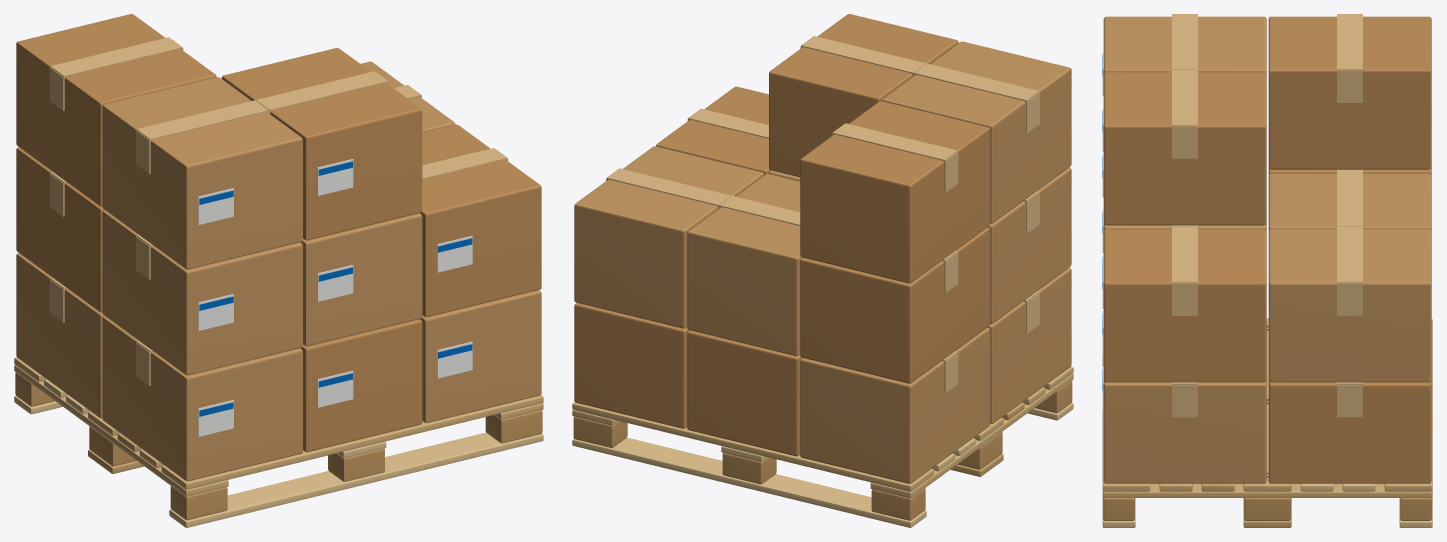
File: pallet_load_partial.glb
3 views of the same model, side by side, from view 1: azimuth 30°, elevation 25°; view 2: azimuth 150°, elevation 25°; view 3: azimuth 270°, elevation 25° (orthographic). The views are drawn at different scales.
Parts seen in each view (by area): view 1: load_geo, pallet_geo; view 2: load_geo, pallet_geo; view 3: load_geo, pallet_geo.
Boxes of the visible parts, x1=… form: load_geo: x1=16, y1=14, x2=541, y2=481; pallet_geo: x1=14, y1=357, x2=543, y2=527; load_geo: x1=574, y1=14, x2=1071, y2=483; pallet_geo: x1=572, y1=366, x2=1073, y2=527; load_geo: x1=1102, y1=14, x2=1431, y2=483; pallet_geo: x1=1102, y1=318, x2=1432, y2=527.
Bounding box in the file's own units: 1.2 × 1.16 × 1.
